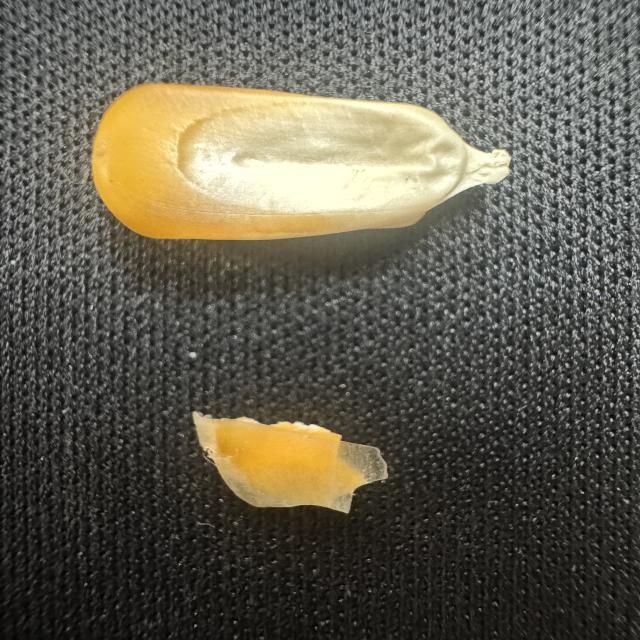Bad-Seed: (170, 384, 406, 531)
Good-Seed: (72, 75, 522, 263)
